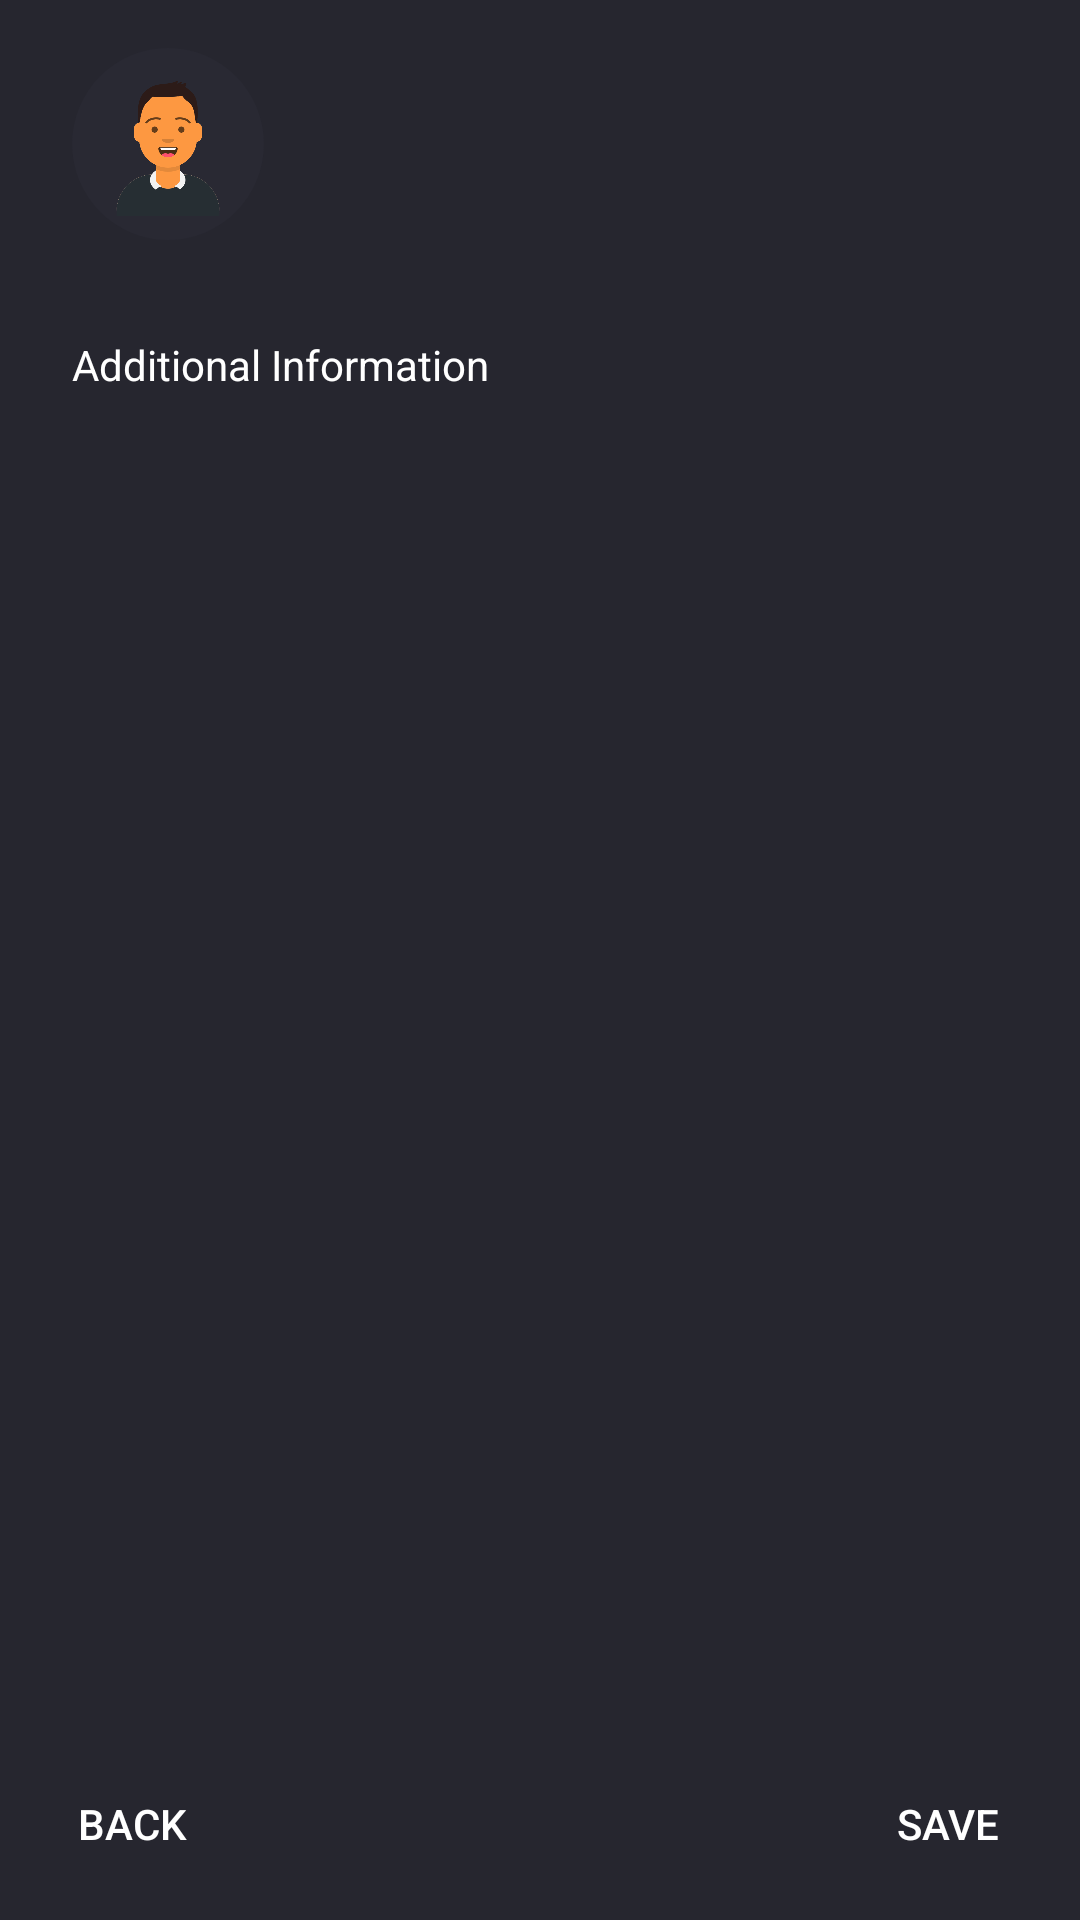

Icons on this 1080x1920 Android screen, each with its box as (x1, y1, x2, y2):
man: (117, 81, 219, 204)
